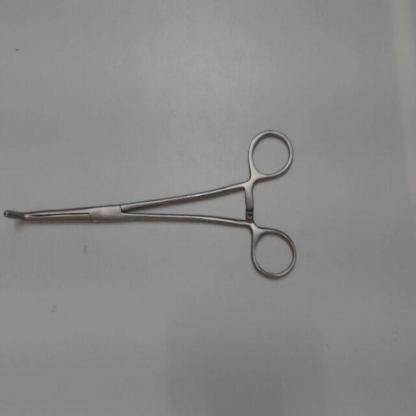Lahey Forceps: (2, 119, 304, 287)
